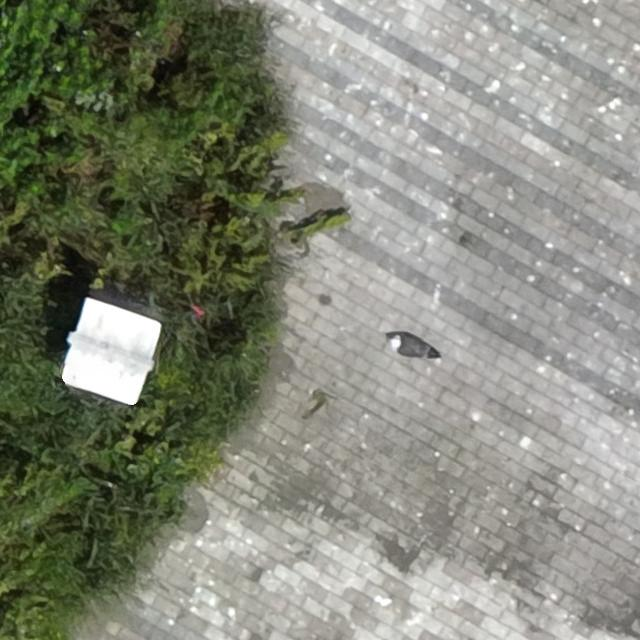umineko: (390, 336, 432, 358)
